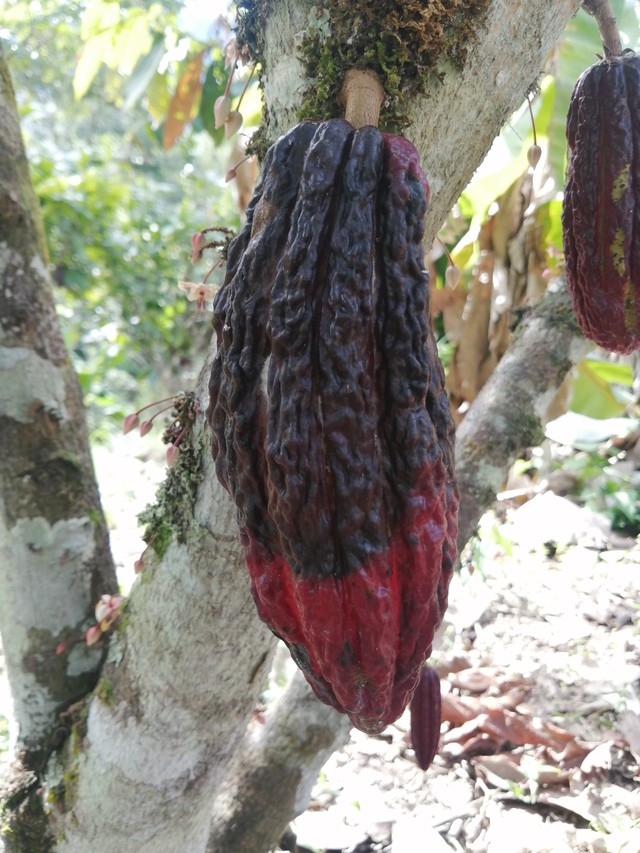phytophthora palmivora: (189, 99, 469, 747)
